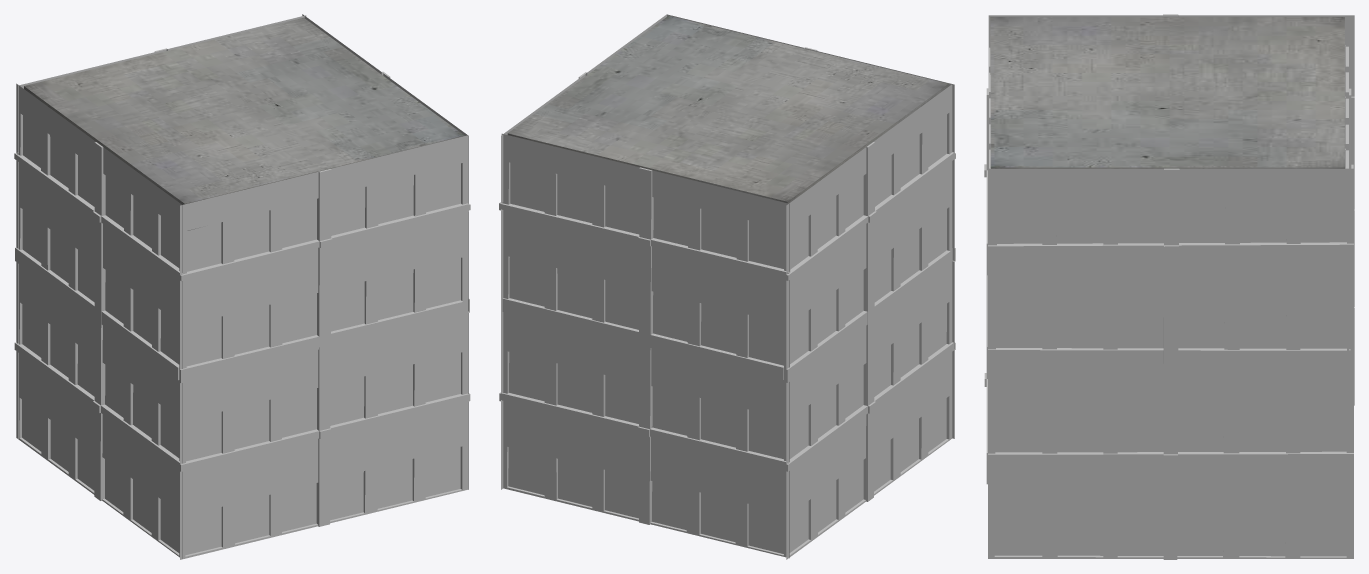
The model's file is Mordern Building3(04-15).FBX.
3 views of the same model, side by side, from view 1: azimuth 30°, elevation 25°; view 2: azimuth 150°, elevation 25°; view 3: azimuth 270°, elevation 25° (orthographic). The views are drawn at different scales.
Parts seen in each view (by area): view 1: Plane001, Box001; view 2: Plane001, Box001; view 3: Plane001, Box001.
Boxes of the visible parts, x1,y1,x2,y2 form: Plane001: [14, 14, 470, 559]; Box001: [24, 17, 464, 230]; Plane001: [499, 14, 955, 559]; Box001: [507, 15, 948, 203]; Plane001: [984, 14, 1354, 559]; Box001: [990, 17, 1344, 168].
Size of the model in its own units: 173 by 200 by 172.
